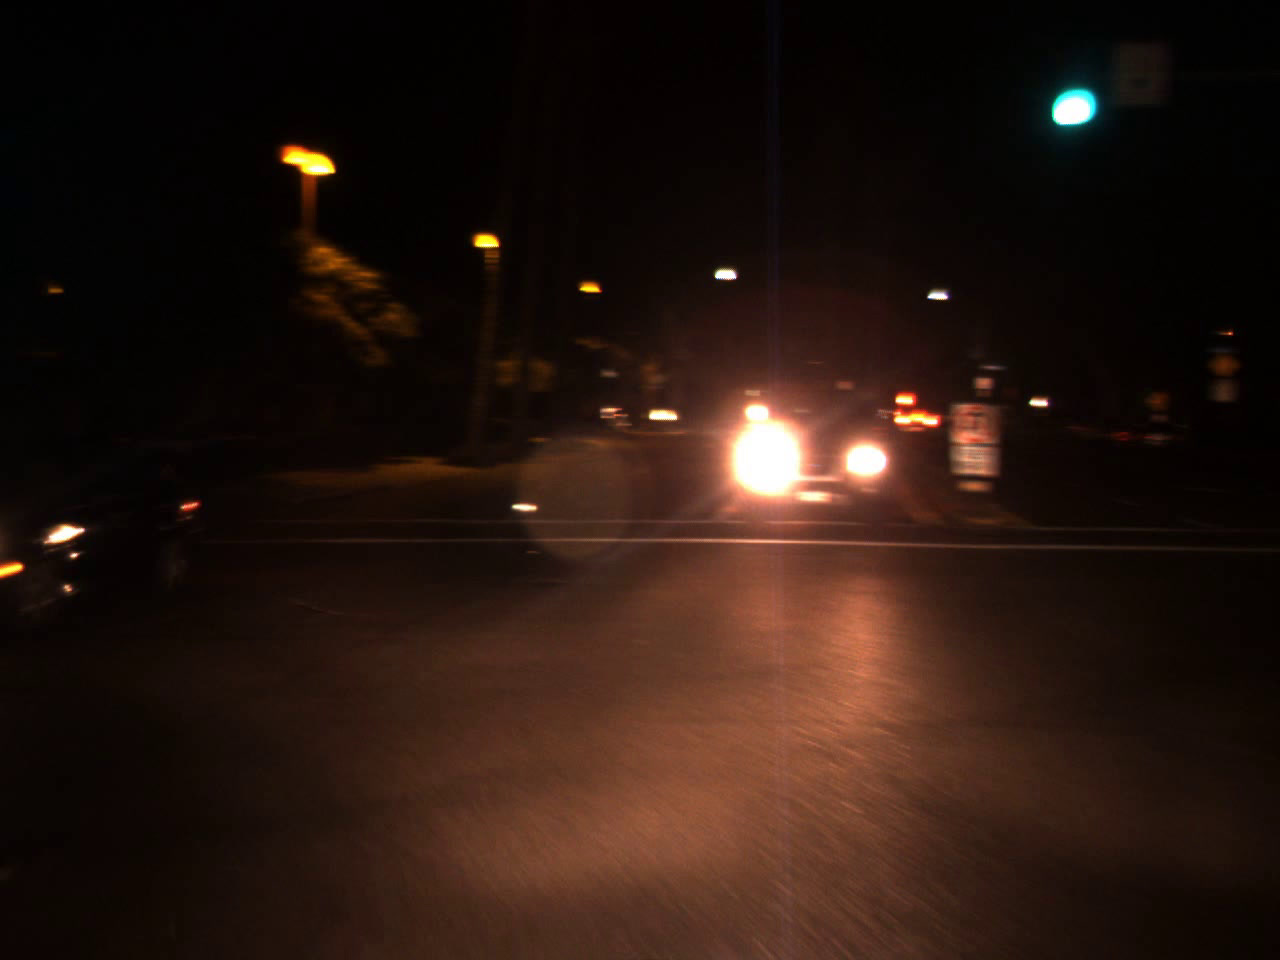go: (1041, 58, 1093, 136)
